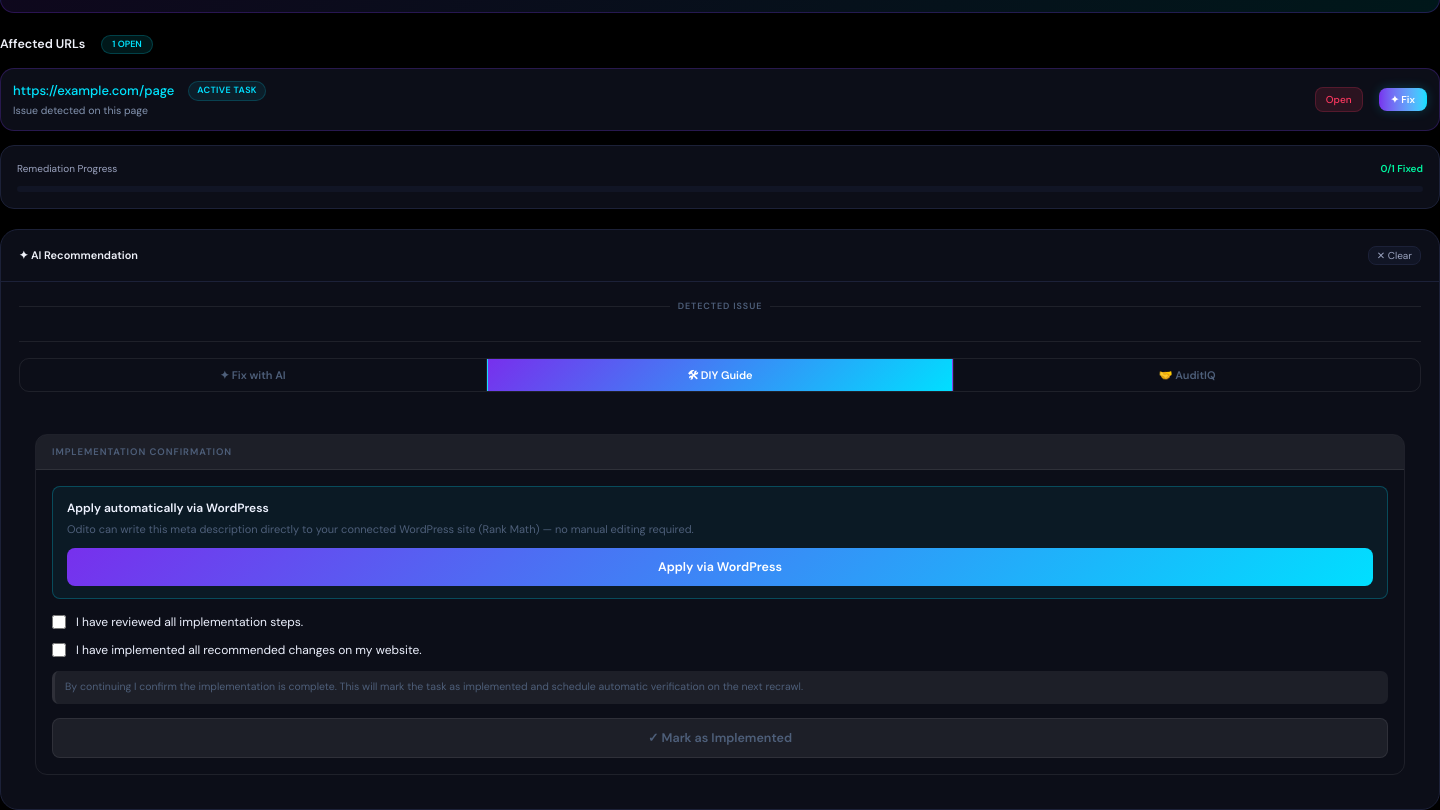
IssueDetailView — Apply-fix dialog current-value display (naxonify.com "(empty)" bug fix) › a genuinely empty live value correctly shows (empty) — this case must keep working
(page scrolled)
Click the button "Apply via WordPress" at (720, 567), box [67, 548, 1373, 586]
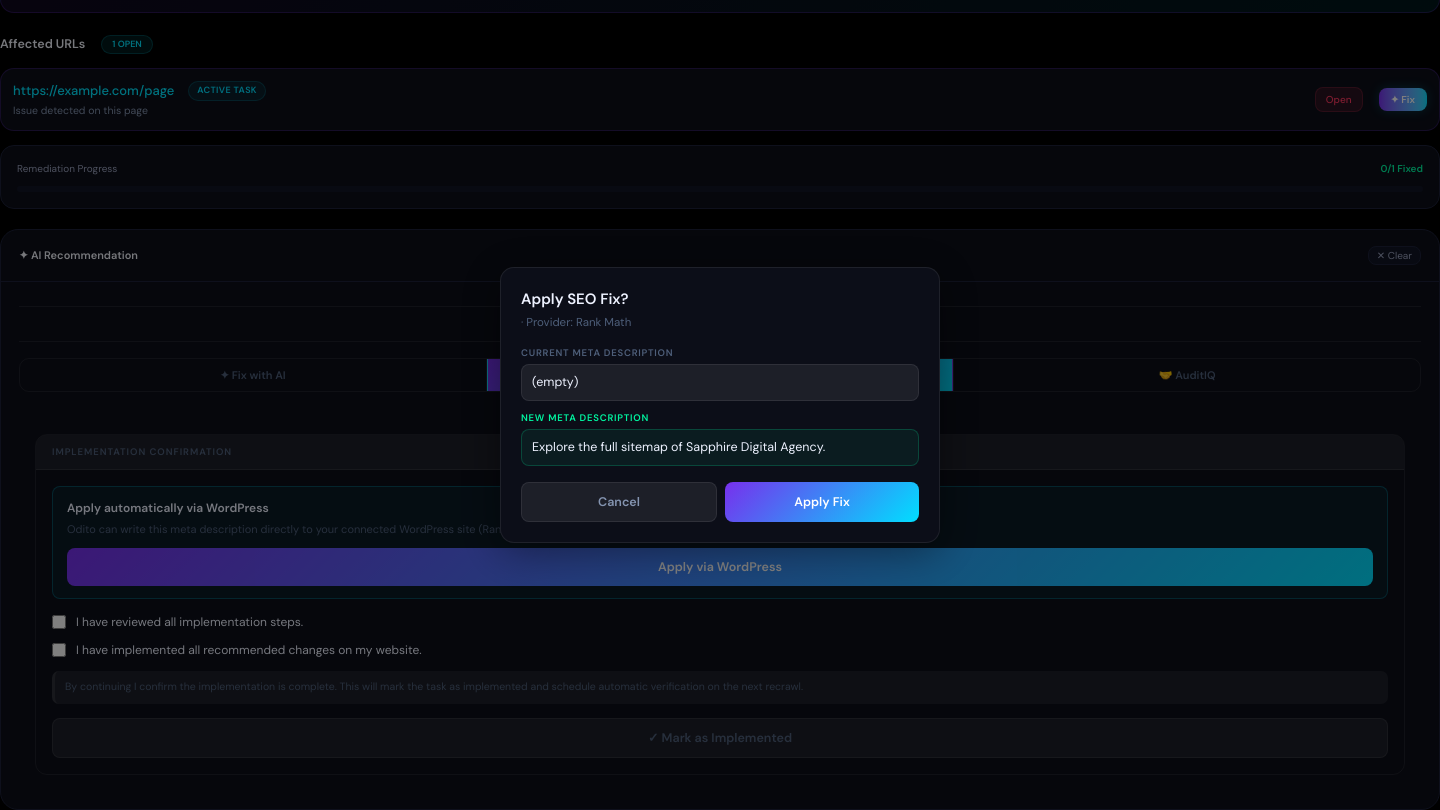
Check: the text "(empty)" is shown, box [521, 364, 919, 401]
